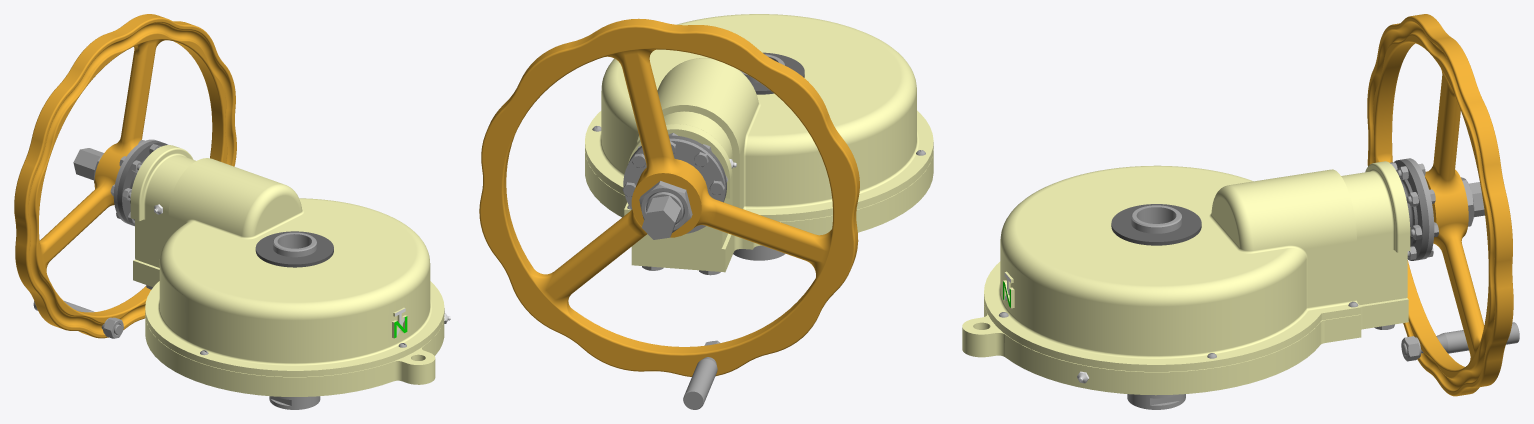
The model's file is Penta.glb.
3 views of the same model, side by side, from view 1: azimuth 30°, elevation 25°; view 2: azimuth 150°, elevation 25°; view 3: azimuth 270°, elevation 25° (orthographic). The views are drawn at different scales.
Visible parts, largest first — view 1: 1Corpo_Penta-410-1/3021-1, Conjunto pinhão 7 dentes-1/8261-1, 1Corpo_Penta-410-1/7604-1, 1Corpo_Penta-410-1/7605-1, Penta, 1Corpo_Penta-410-1/7393-1, Conjunto pinhão 7 dentes-1/7279-1, Conjunto pinhão 7 dentes-1/Flange do pinhão-1; view 2: Conjunto pinhão 7 dentes-1/8261-1, 1Corpo_Penta-410-1/3021-1, 1Corpo_Penta-410-1/7604-1, Conjunto pinhão 7 dentes-1/7279-1, 1Corpo_Penta-410-1/7605-1, Conjunto pinhão 7 dentes-1/3028-1, Conjunto pinhão 7 dentes-1/Porca do volante-1, Penta, 1Corpo_Penta-410-1/7393-1; view 3: 1Corpo_Penta-410-1/3021-1, Conjunto pinhão 7 dentes-1/8261-1, 1Corpo_Penta-410-1/7604-1, 1Corpo_Penta-410-1/7605-1, Penta, 1Corpo_Penta-410-1/7393-1, Conjunto pinhão 7 dentes-1/Flange do pinhão-1, Conjunto pinhão 7 dentes-1/7279-1, Conjunto pinhão 7 dentes-1/3028-1.
Boxes of the visible parts, x1=… form: 1Corpo_Penta-410-1/3021-1: x1=145, y1=158, x2=444, y2=376; Conjunto pinhão 7 dentes-1/8261-1: x1=14, y1=14, x2=236, y2=338; 1Corpo_Penta-410-1/7604-1: x1=133, y1=258, x2=444, y2=396; 1Corpo_Penta-410-1/7605-1: x1=130, y1=145, x2=195, y2=266; Penta: x1=269, y1=232, x2=320, y2=409; 1Corpo_Penta-410-1/7393-1: x1=255, y1=231, x2=333, y2=267; Conjunto pinhão 7 dentes-1/7279-1: x1=73, y1=139, x2=158, y2=223; Conjunto pinhão 7 dentes-1/Flange do pinhão-1: x1=117, y1=141, x2=167, y2=226; Conjunto pinhão 7 dentes-1/8261-1: x1=479, y1=18, x2=859, y2=376; 1Corpo_Penta-410-1/3021-1: x1=585, y1=14, x2=933, y2=221; 1Corpo_Penta-410-1/7604-1: x1=585, y1=149, x2=933, y2=272; Conjunto pinhão 7 dentes-1/7279-1: x1=623, y1=138, x2=725, y2=239; 1Corpo_Penta-410-1/7605-1: x1=628, y1=111, x2=732, y2=247; Conjunto pinhão 7 dentes-1/3028-1: x1=683, y1=357, x2=717, y2=409; Conjunto pinhão 7 dentes-1/Porca do volante-1: x1=639, y1=181, x2=692, y2=232; Penta: x1=733, y1=54, x2=785, y2=260; 1Corpo_Penta-410-1/7393-1: x1=750, y1=52, x2=804, y2=94; 1Corpo_Penta-410-1/3021-1: x1=984, y1=165, x2=1361, y2=371; Conjunto pinhão 7 dentes-1/8261-1: x1=1367, y1=14, x2=1513, y2=396; 1Corpo_Penta-410-1/7604-1: x1=962, y1=297, x2=1408, y2=395; 1Corpo_Penta-410-1/7605-1: x1=1341, y1=161, x2=1410, y2=304; Penta: x1=1127, y1=205, x2=1185, y2=409; 1Corpo_Penta-410-1/7393-1: x1=1111, y1=204, x2=1201, y2=245; Conjunto pinhão 7 dentes-1/Flange do pinhão-1: x1=1394, y1=159, x2=1429, y2=260; Conjunto pinhão 7 dentes-1/7279-1: x1=1405, y1=158, x2=1484, y2=259; Conjunto pinhão 7 dentes-1/3028-1: x1=1401, y1=322, x2=1519, y2=355.
Size of the model in its own units: 0.5294 by 0.4842 by 0.7105.
